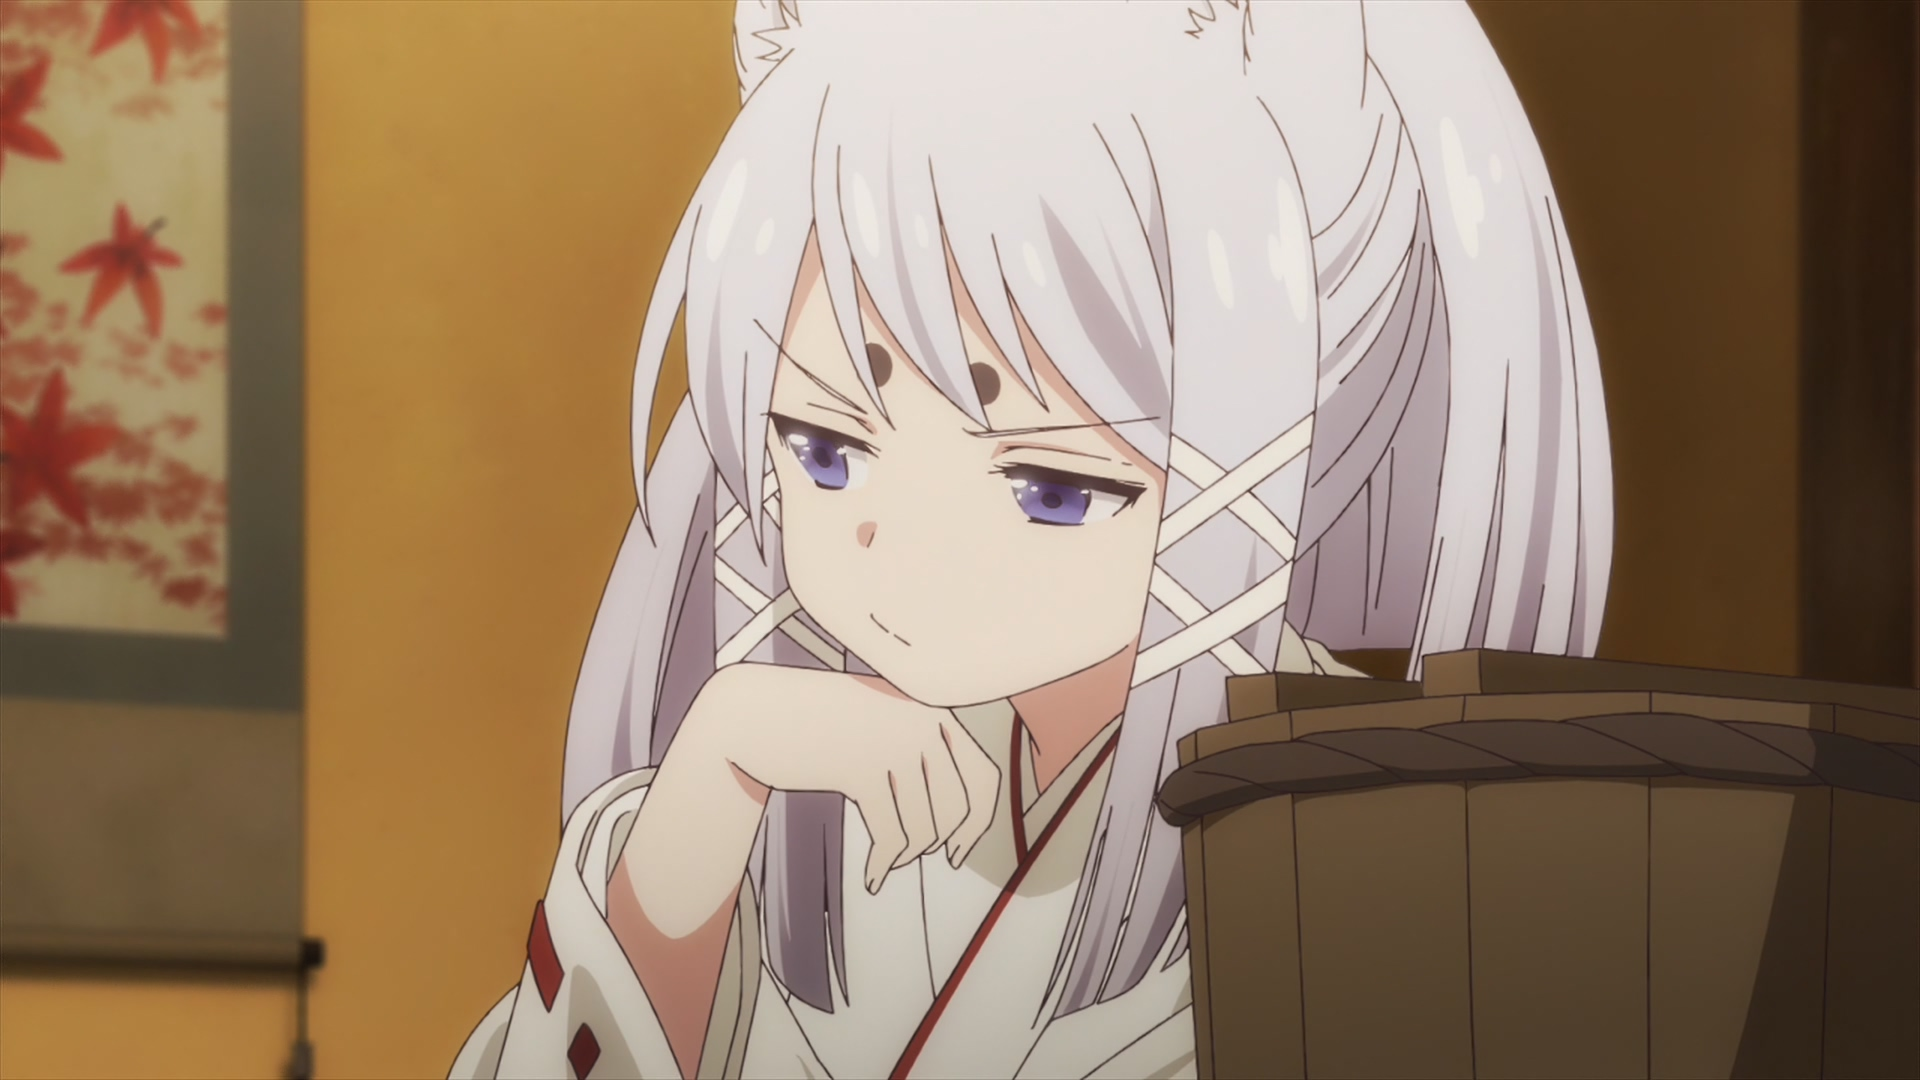柊: (448, 1, 1615, 1080)
